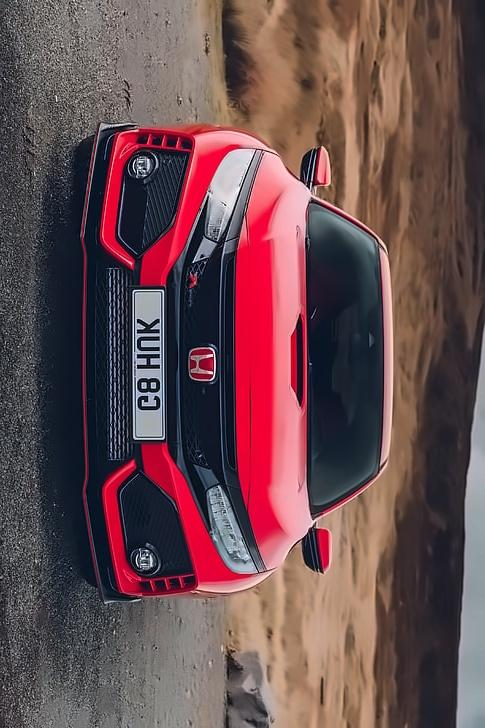Car hood: (236, 139, 314, 571)
Front bumper: (69, 117, 243, 605)
Headlight - -L-: (203, 480, 268, 576)
Headlight - -R-: (188, 145, 265, 259)
Side mirror - -L-: (296, 525, 334, 577)
Side mirror - -R-: (295, 138, 333, 205)
